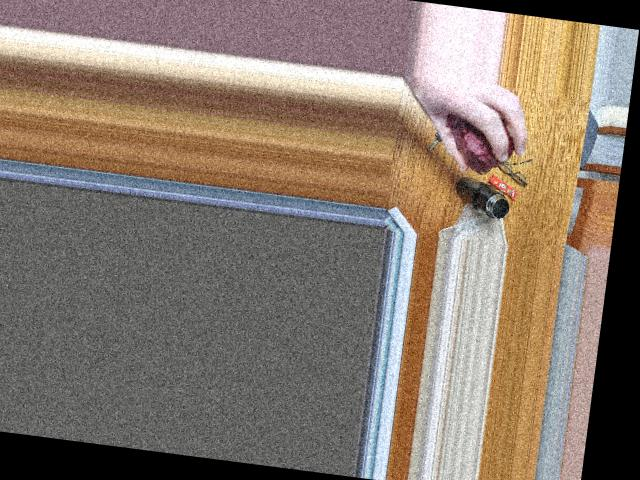onion: (436, 110, 516, 172)
